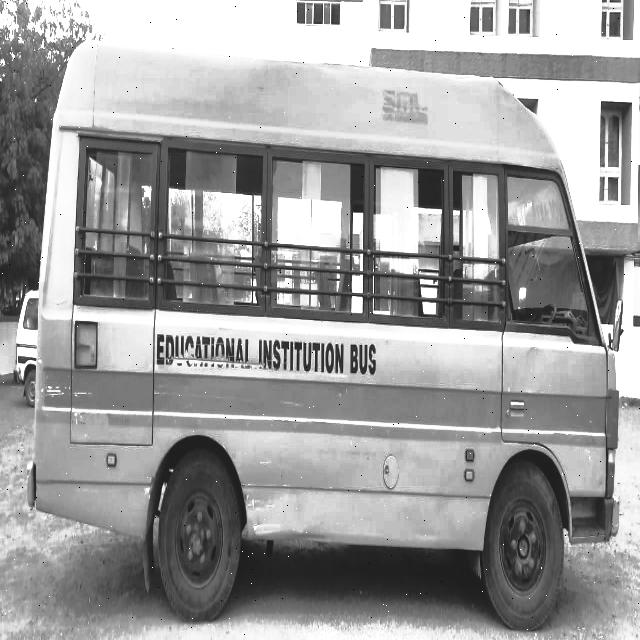Bus: (24, 16, 625, 637)
